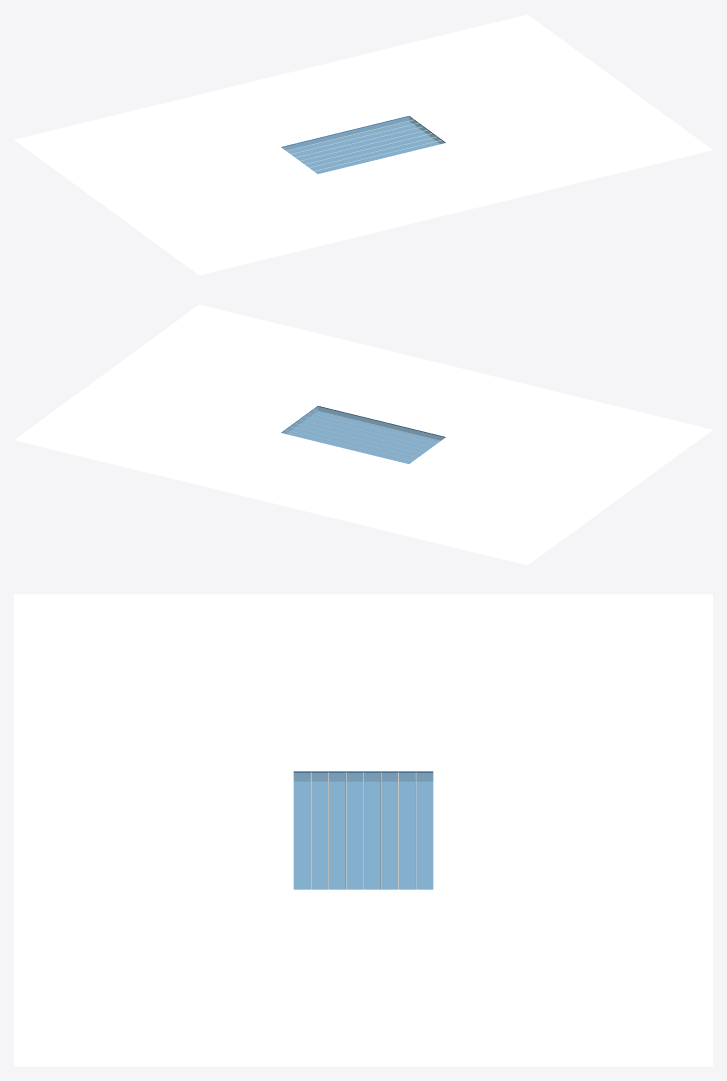
File: pool.gltf
The picture shows the model from 3 angles, top to bottom: view 1: azimuth 30°, elevation 25°; view 2: azimuth 150°, elevation 25°; view 3: azimuth 270°, elevation 25°; orthographic projection. The views are drawn at different scales.
Visible parts, largest first — view 1: Near floor, Far floor, Start floor, End floor, Water, Bottom, Cylinder, Far wall; view 2: Near floor, Far floor, Start floor, End floor, Water, Bottom, Cylinder, Near wall; view 3: Near floor, Far floor, Start floor, End floor, Water, Bottom, Start, Cylinder.
Boxes of the visible parts, box(x1,y1,x2,y2) form: Near floor: box(125, 96, 712, 275); Far floor: box(14, 14, 601, 193); Start floor: box(88, 147, 317, 220); End floor: box(409, 69, 638, 142); Water: box(282, 116, 444, 173); Bottom: box(287, 121, 439, 173); Cylinder: box(286, 119, 441, 171); Far wall: box(281, 116, 409, 150); Near floor: box(125, 304, 712, 483); Far floor: box(14, 386, 601, 565); Start floor: box(409, 437, 638, 510); End floor: box(88, 359, 317, 432); Water: box(282, 406, 444, 463); Bottom: box(287, 411, 439, 463); Cylinder: box(285, 409, 440, 461); Near wall: box(317, 406, 445, 440); Near floor: box(14, 594, 293, 1066); Far floor: box(433, 594, 712, 1066); Start floor: box(293, 594, 433, 771); End floor: box(293, 889, 433, 1066); Water: box(293, 773, 433, 889); Bottom: box(293, 781, 433, 889); Start: box(293, 771, 433, 781); Cylinder: box(310, 772, 416, 889).
Size of the model in its own units: 200 by 2 by 125.
